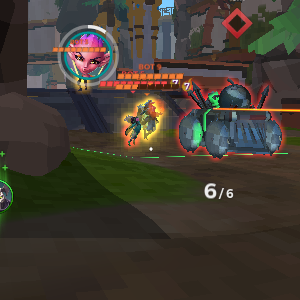model: (137, 94, 164, 141), (121, 100, 141, 146), (71, 61, 90, 99)
